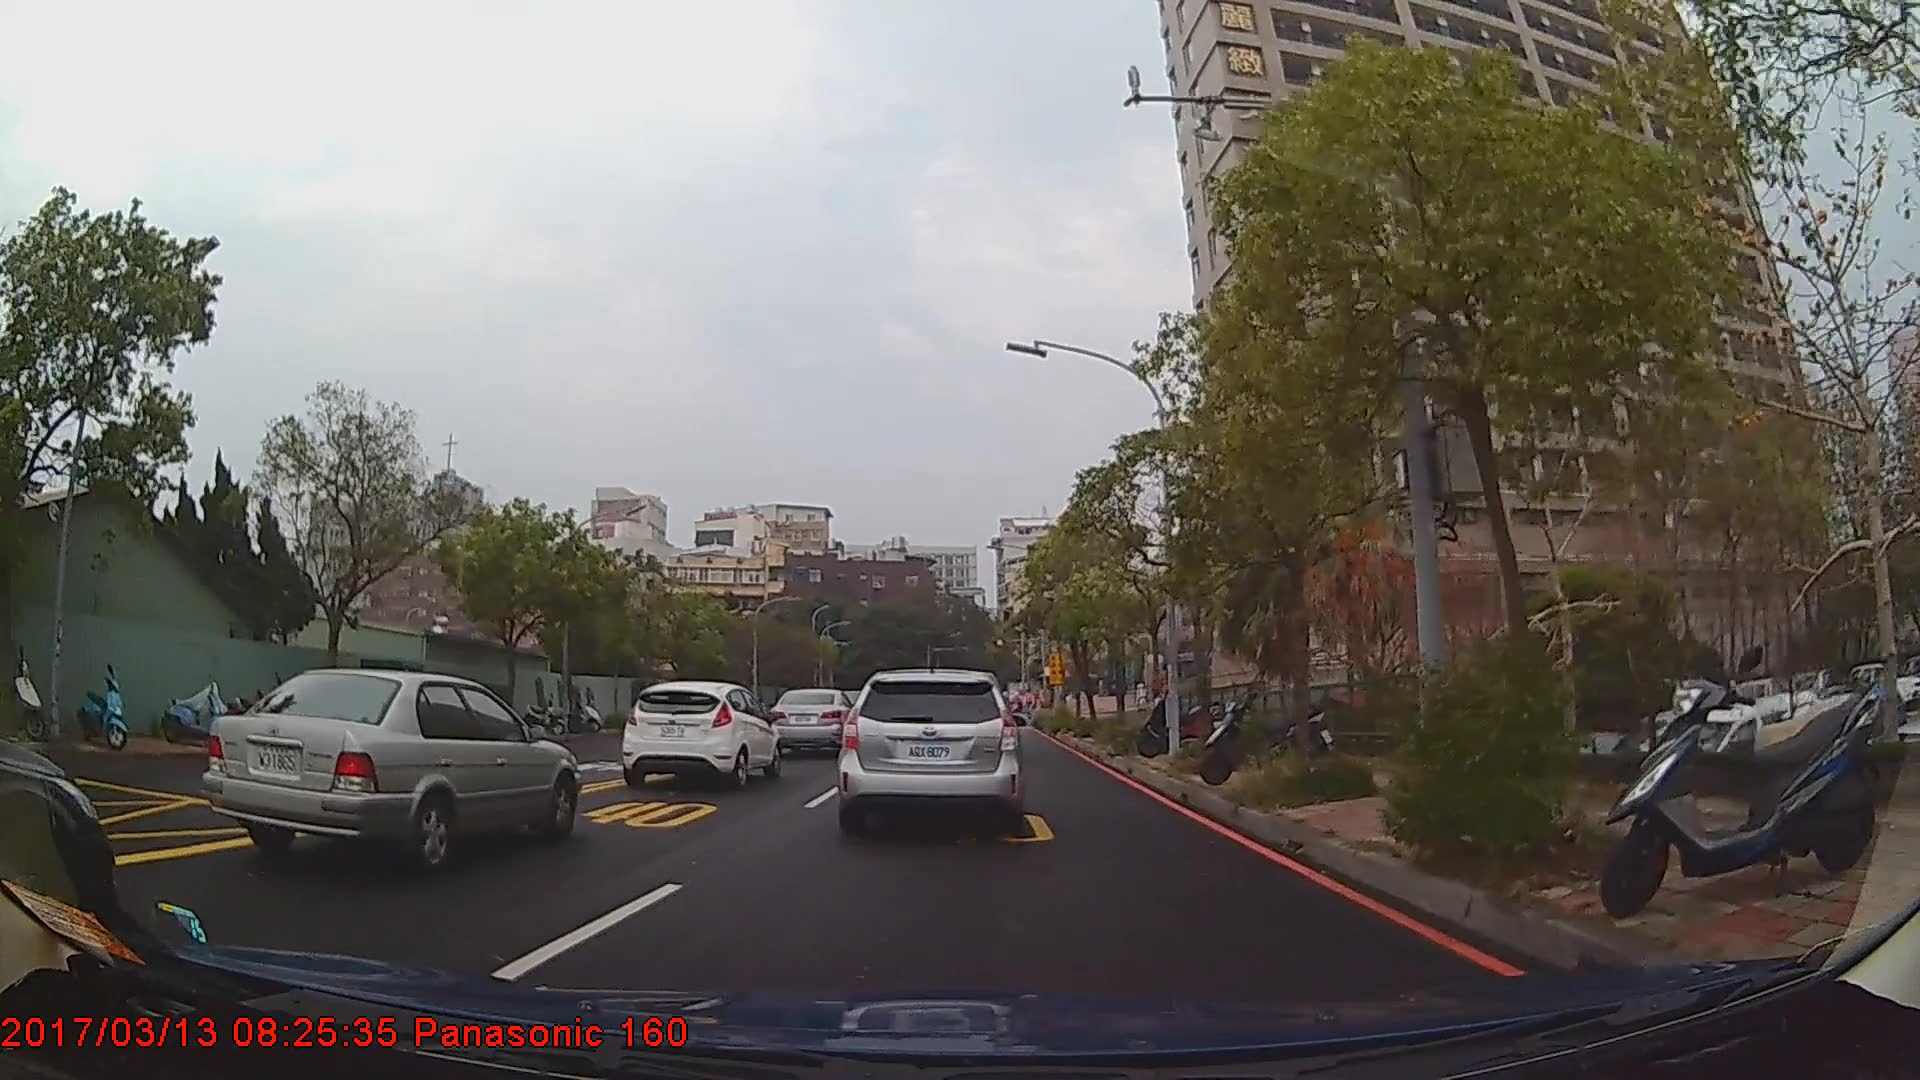vehicle: (198, 667, 583, 868), (837, 666, 1023, 825), (620, 679, 783, 785), (767, 688, 858, 756)
